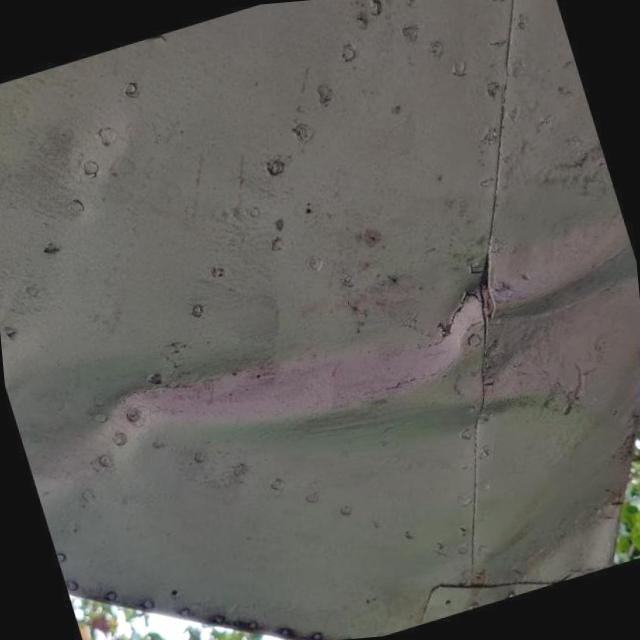dent: (10, 236, 640, 496), (452, 482, 616, 602)
